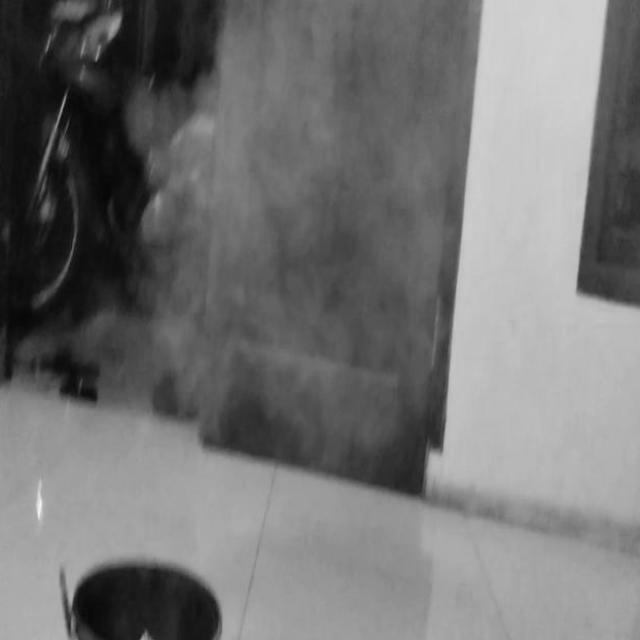fire: (154, 0, 485, 404)
